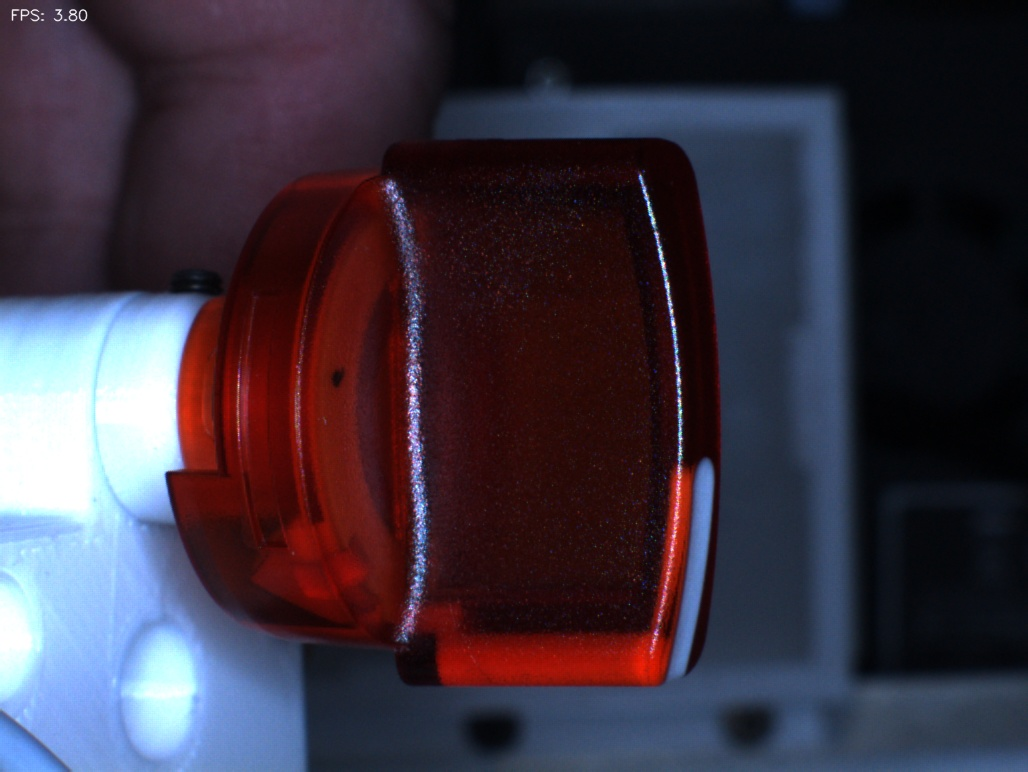PointNoir: (304, 334, 381, 421)
